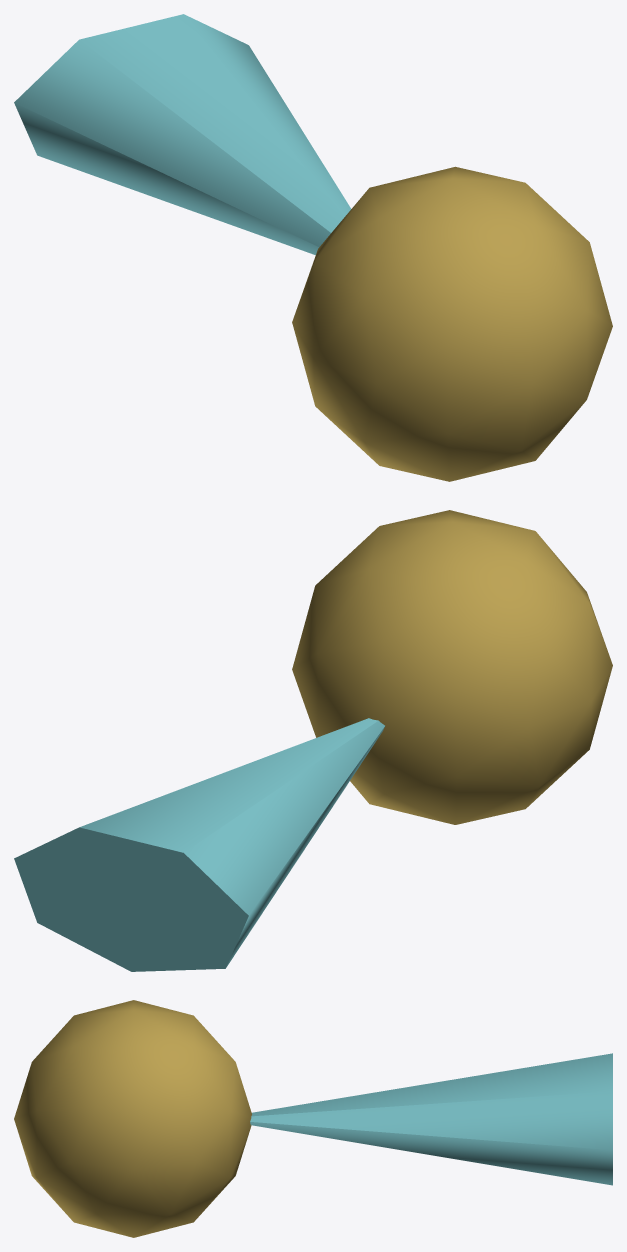
File: wpn_r_09.glb
3 renders of one model, top to bottom at view 1: azimuth 30°, elevation 25°; view 2: azimuth 150°, elevation 25°; view 3: azimuth 270°, elevation 25°, orthographic. The views are drawn at different scales.
Visible parts, largest first — view 1: projectile_core, projectile_trail; view 2: projectile_core, projectile_trail; view 3: projectile_core, projectile_trail.
Part boxes in pixels (x1,y1,x2,y2): projectile_core: (292,166,612,481); projectile_trail: (14,14,350,255); projectile_core: (292,510,612,824); projectile_trail: (14,718,384,971); projectile_core: (14,1000,251,1237); projectile_trail: (250,1053,612,1185).
Bounding box in the file's own units: 0.3 × 0.3 × 0.75.
